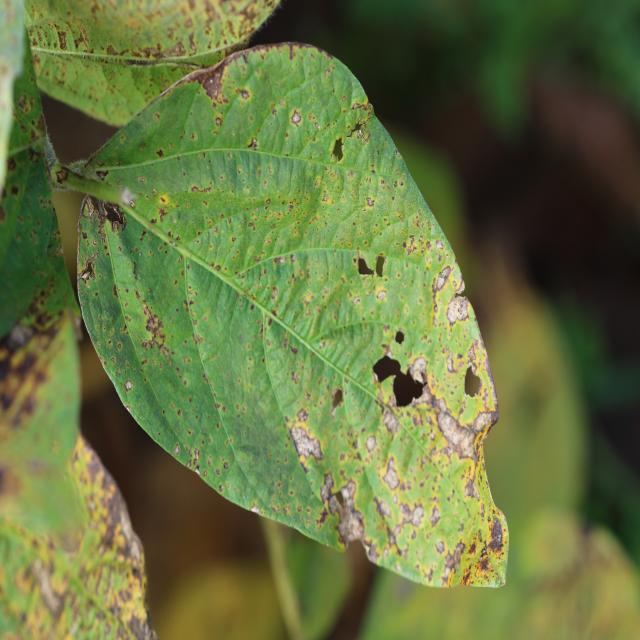Bacterial_Blight: (0, 320, 75, 455), (208, 169, 304, 253), (372, 329, 425, 404), (459, 512, 508, 588), (385, 491, 431, 553), (326, 476, 364, 550), (284, 413, 330, 474), (147, 183, 200, 235), (430, 264, 470, 323), (114, 498, 143, 567), (437, 408, 475, 455), (140, 304, 170, 355), (200, 62, 231, 102), (343, 108, 371, 145), (99, 199, 128, 233), (77, 250, 101, 283), (355, 253, 383, 280), (16, 91, 40, 120), (381, 458, 401, 490), (182, 443, 201, 473), (156, 40, 187, 58), (464, 478, 479, 499), (446, 351, 459, 374), (351, 99, 372, 113), (404, 235, 418, 255), (461, 564, 474, 585), (289, 108, 303, 126), (56, 30, 69, 49), (365, 434, 378, 453), (55, 167, 69, 184), (28, 147, 42, 164), (190, 185, 212, 194), (296, 407, 308, 421), (96, 169, 109, 181), (7, 157, 17, 172), (247, 137, 259, 149), (158, 208, 168, 222), (106, 45, 118, 56), (376, 290, 387, 300), (10, 184, 19, 196), (124, 380, 133, 392), (155, 147, 164, 158), (435, 239, 444, 250), (366, 197, 375, 207), (215, 117, 223, 127), (137, 175, 146, 183), (190, 132, 197, 140), (160, 196, 166, 204), (130, 201, 136, 209), (154, 113, 160, 121)
Soybean: (45, 43, 509, 587)
